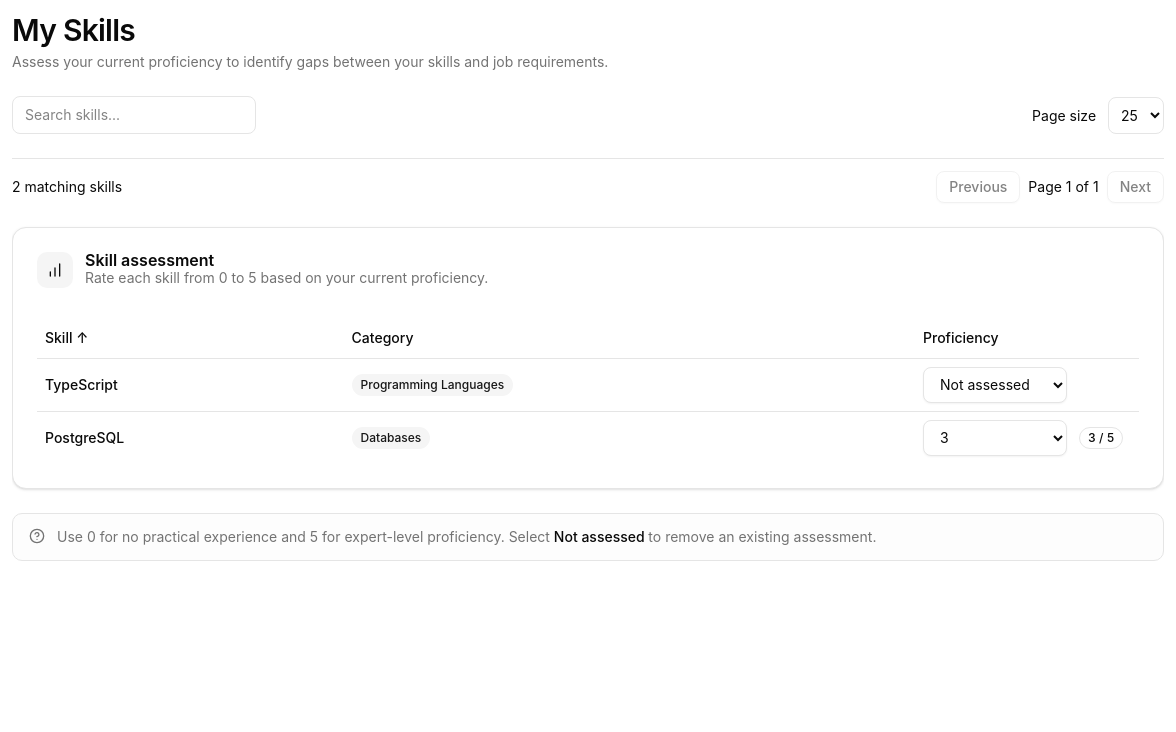
it: My Skills paginated assessments › removes an assessment and restores the unassessed state
Select "Not assessed" in the dropdown next to "3 / 5": (995, 438) [923,420,1067,456]
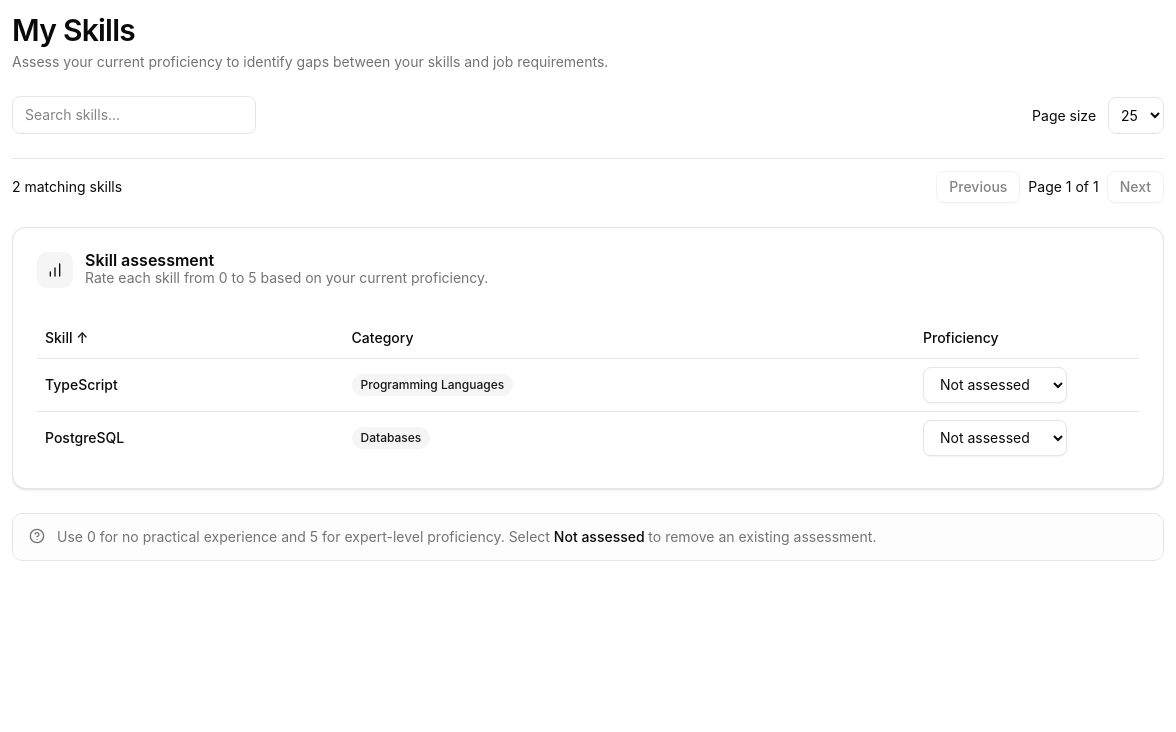
Check: the dropdown in the row of "PostgreSQL" shows "Not assessed", box [923,420,1067,456]
